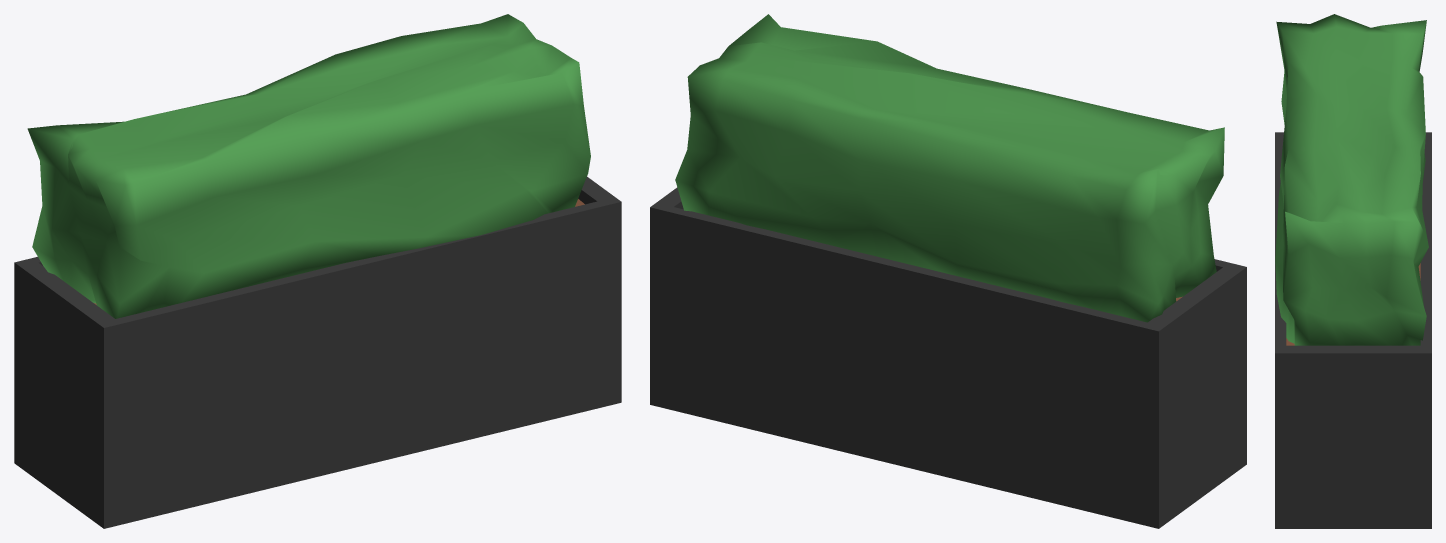
Rendered from M_Plantpot_Large_1.fbx.
The picture shows the model from 3 angles, left to right: view 1: azimuth 30°, elevation 25°; view 2: azimuth 150°, elevation 25°; view 3: azimuth 270°, elevation 25°; orthographic projection. The views are drawn at different scales.
Parts seen in each view (by area): view 1: M_Plantpot_Large_1; view 2: M_Plantpot_Large_1; view 3: M_Plantpot_Large_1.
Part boxes in pixels (x1,y1,x2,y2): M_Plantpot_Large_1: (14, 14, 621, 528); M_Plantpot_Large_1: (650, 14, 1246, 528); M_Plantpot_Large_1: (1275, 14, 1431, 528).
Bounding box in the file's own units: 800 × 514 × 240.
